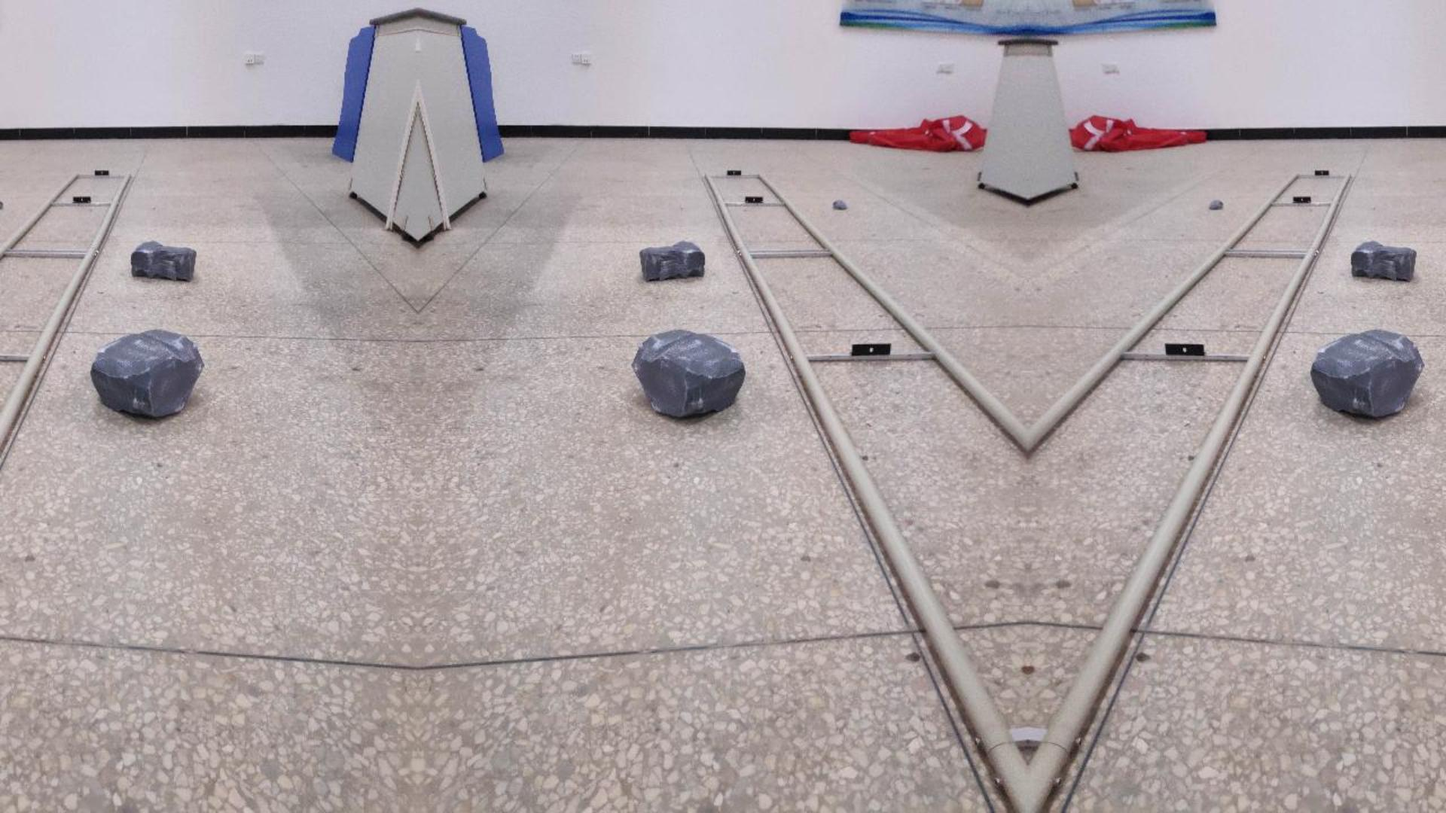rock: (92, 330, 203, 417), (1312, 330, 1423, 417), (633, 330, 743, 417), (641, 241, 704, 280), (131, 241, 194, 280), (1351, 241, 1414, 280), (1209, 199, 1223, 210), (833, 200, 847, 209), (0, 200, 5, 210)
